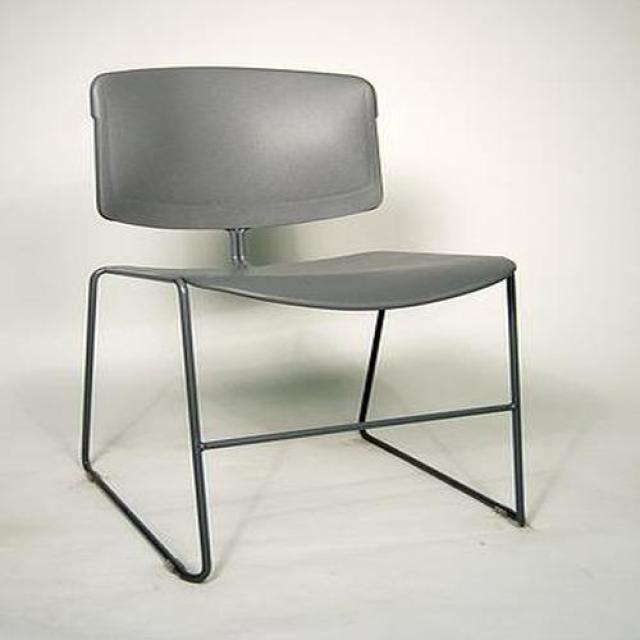chair: (81, 68, 526, 586)
